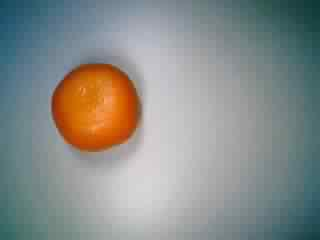orange: (47, 60, 142, 162)
